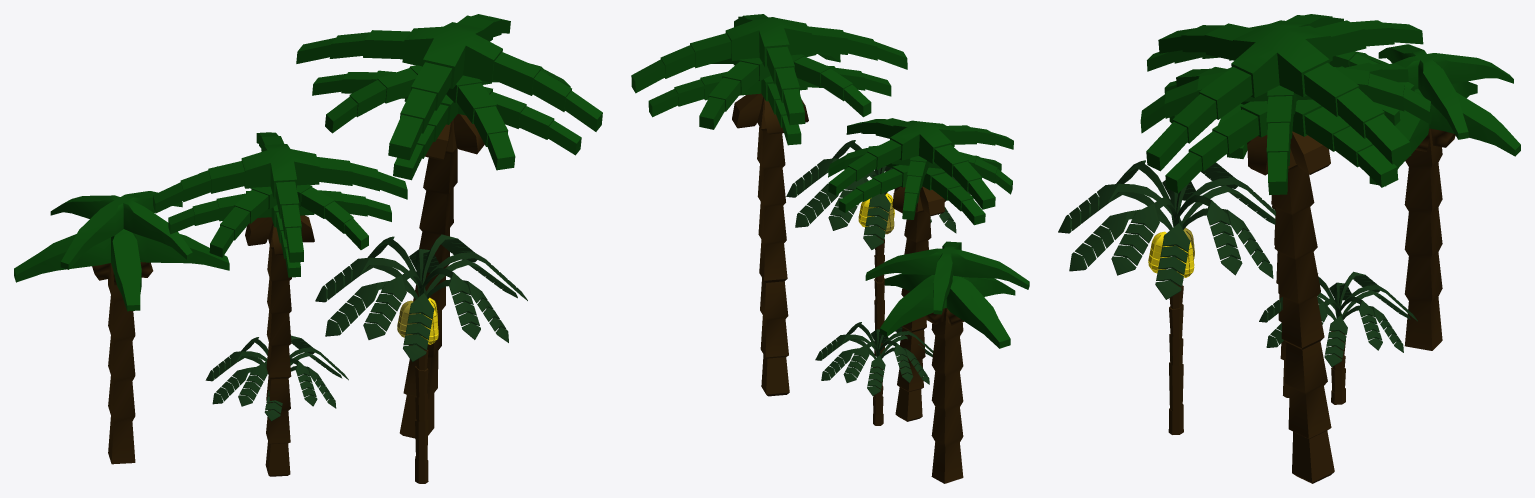
File: Pflanzen_Gruppe.fbx
3 renders of one model, left to right at view 1: azimuth 30°, elevation 25°; view 2: azimuth 150°, elevation 25°; view 3: azimuth 270°, elevation 25°, orthographic. The views are drawn at different scales.
Parts seen in each view (by area): view 1: Palme_2, Palme, Palme_4, Staude_groß, Staude_klein; view 2: Palme_2, Palme, Palme_4, Staude_groß, Staude_klein; view 3: Palme_2, Staude_groß, Palme_4, Staude_klein, Palme.
Boxes of the visible parts, box(x1,y1,x2,y2) form: Palme_2: box(296, 14, 602, 438); Palme: box(153, 132, 407, 476); Palme_4: box(14, 191, 229, 464); Staude_groß: box(315, 234, 527, 483); Staude_klein: box(205, 335, 348, 421); Palme_2: box(631, 14, 907, 396); Palme: box(828, 118, 1013, 421); Palme_4: box(865, 241, 1029, 483); Staude_groß: box(786, 140, 971, 356); Staude_klein: box(815, 322, 933, 425); Palme_2: box(1140, 20, 1431, 483); Staude_groß: box(1058, 160, 1275, 434); Palme_4: box(1369, 44, 1520, 350); Staude_klein: box(1259, 271, 1417, 404); Palme: box(1147, 14, 1414, 397).
Bounding box in the file's own units: 2006 × 1657 × 1545.
